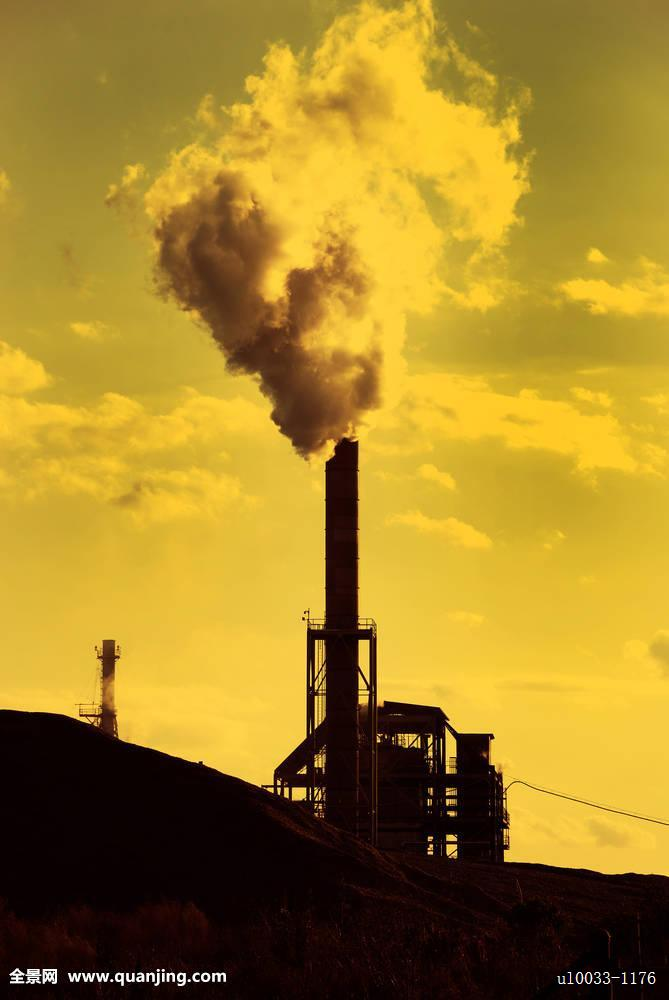dust: (150, 25, 530, 480)
